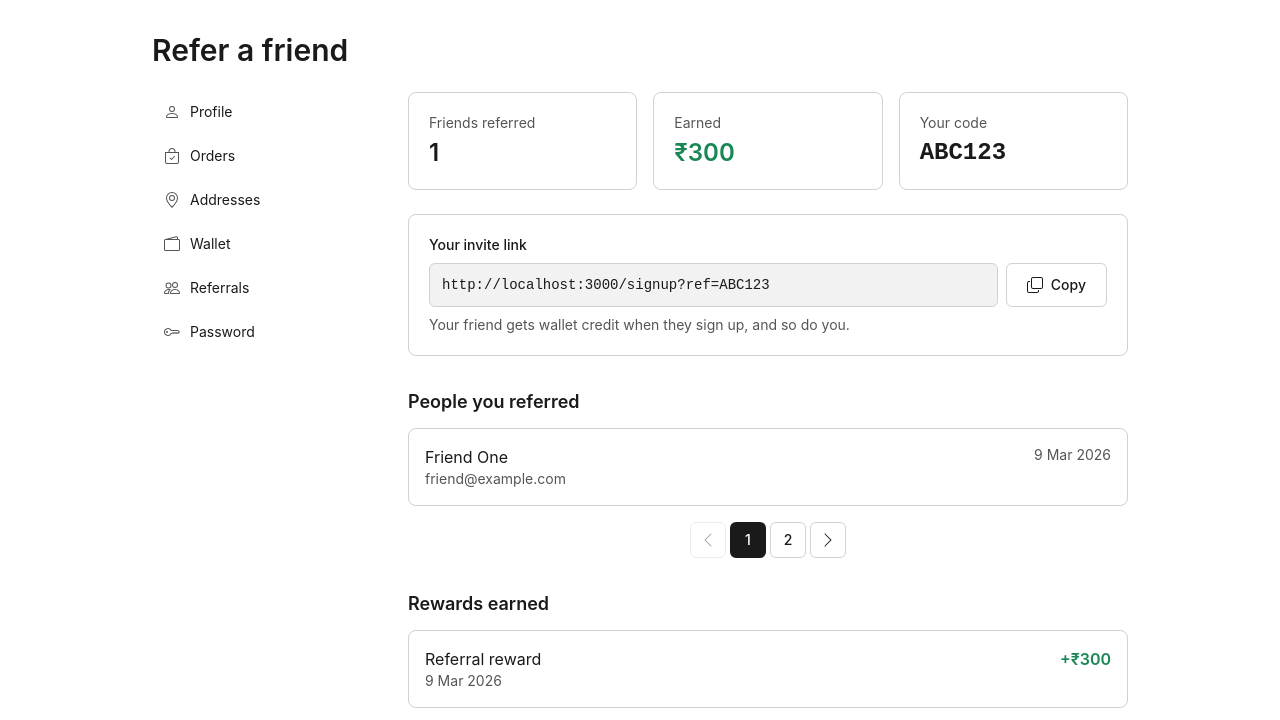
Test: ReferralsPage › pages the referred list through the endpoint that was never mounted before
The image size is (1280, 720).
Check: the text "Friend One" is shown, box left=425, top=447, right=508, bottom=467
Click the button named "Page 2": (788, 540) left=770, top=522, right=806, bottom=558
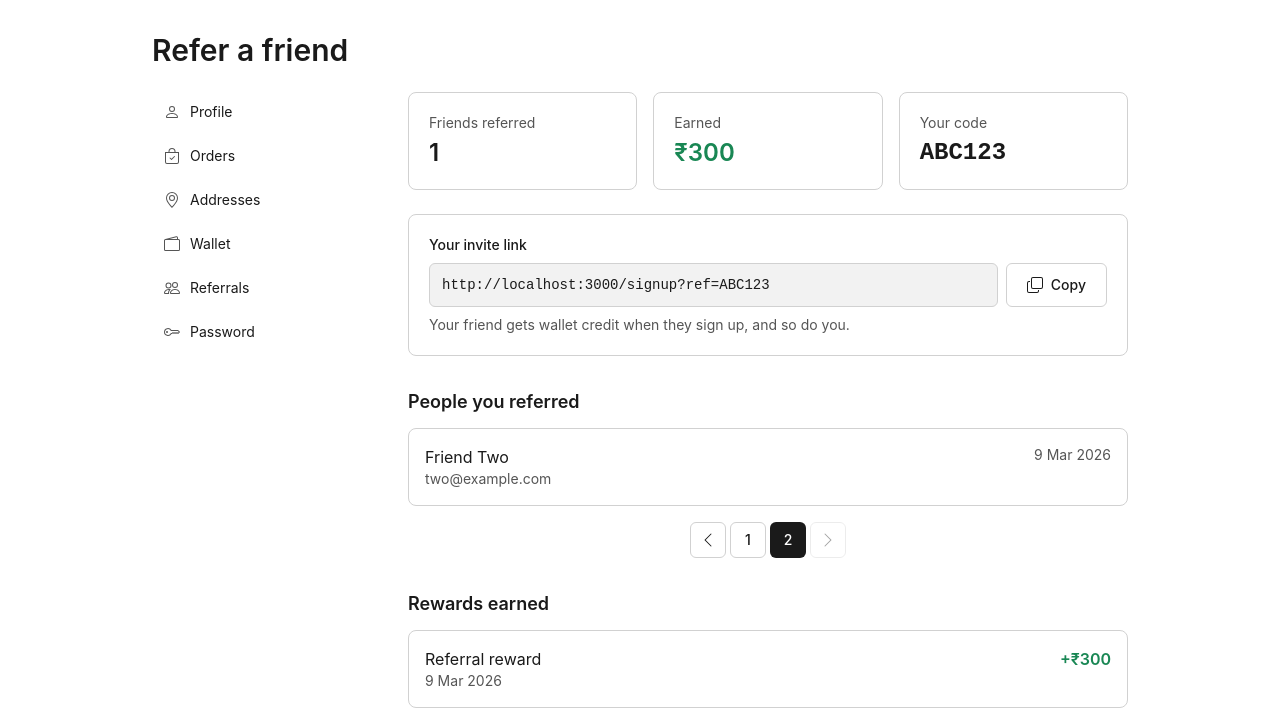
Check: the text "Friend Two" is shown, box left=425, top=447, right=509, bottom=467
